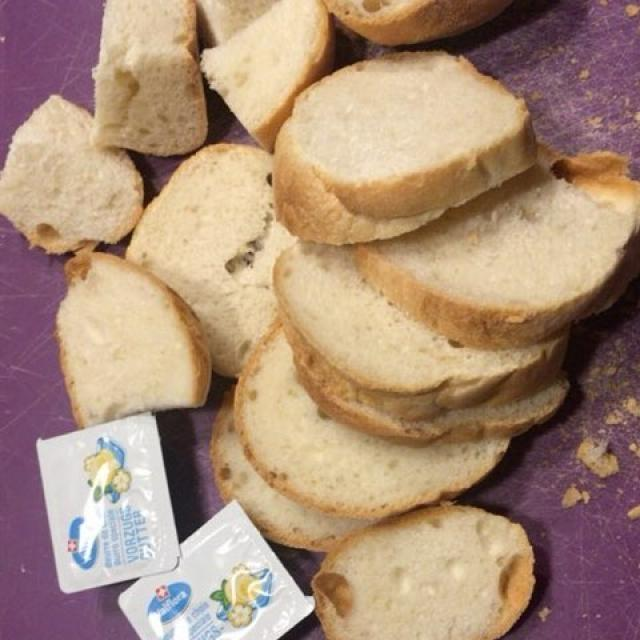bread: (19, 3, 637, 634)
butter: (17, 410, 314, 637)
